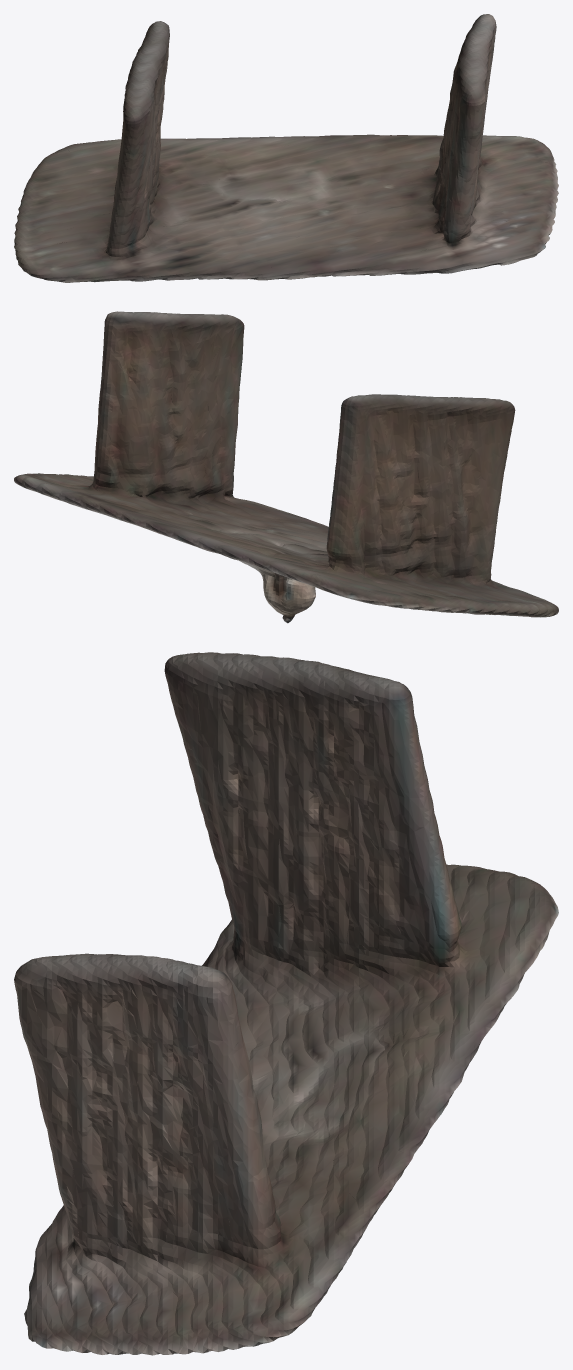
File: oren-sintered-stone-6-seater-dinning-table.glb
3 renders of one model, top to bottom at view 1: azimuth 30°, elevation 25°; view 2: azimuth 150°, elevation 25°; view 3: azimuth 270°, elevation 25°, orthographic. The views are drawn at different scales.
Parts seen in each view (by area): view 1: orient; view 2: orient; view 3: orient.
Boxes of the visible parts, <box> form: orient: <box>14,14,558,282</box>; orient: <box>14,311,558,623</box>; orient: <box>14,652,558,1355</box>.
Size of the model in its own units: 1.8 by 0.7549 by 0.9.
